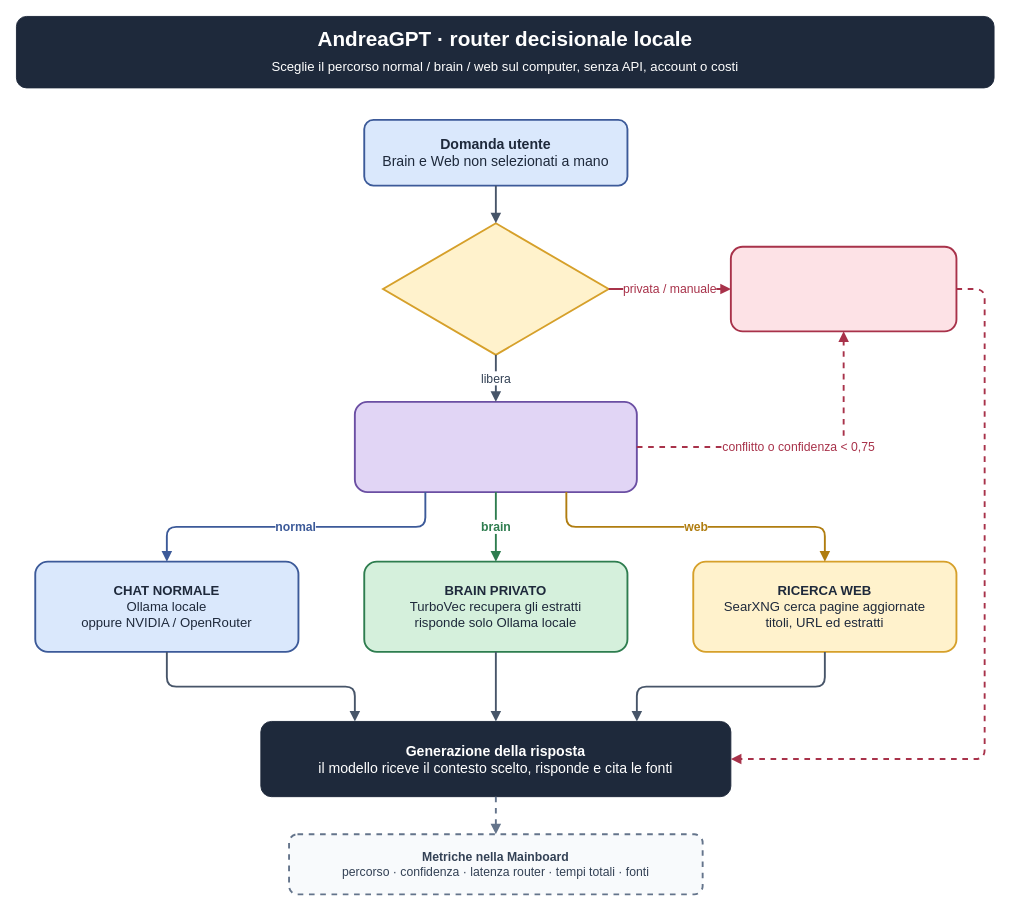
This 1011x912 diagram has some shape labels left out. The centre of each missing label's shape, as x and y in pixels:
Controllo privacy chat già privata? scelta manuale?: point (495, 288)
Fallback sicuro usa il percorso manuale oppure la chat normale: point (843, 288)
Router locale punteggi + segnali + confidenza zero API · soglia predefinita 0,75: point (495, 446)
